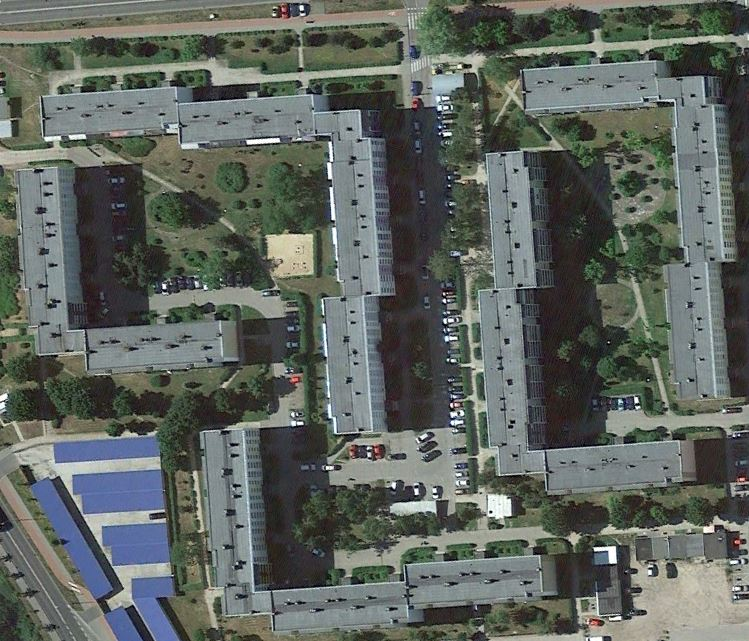block of flats: (36, 83, 393, 441), (471, 146, 705, 497), (512, 55, 740, 405), (196, 424, 565, 633), (10, 157, 246, 375)
garage: (30, 475, 116, 604), (67, 468, 173, 516), (630, 528, 735, 568), (129, 575, 190, 641), (45, 434, 169, 466), (97, 520, 175, 568), (590, 543, 628, 622)
